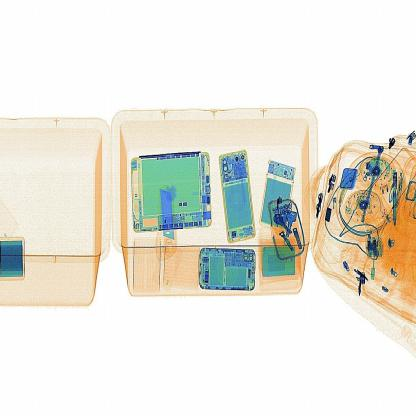pliers: (154, 183, 187, 266)
